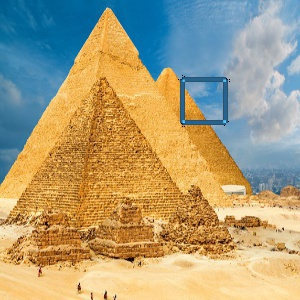square: (178, 74, 230, 127)
triangle: (1, 4, 237, 211), (7, 76, 207, 219), (159, 181, 239, 255)
